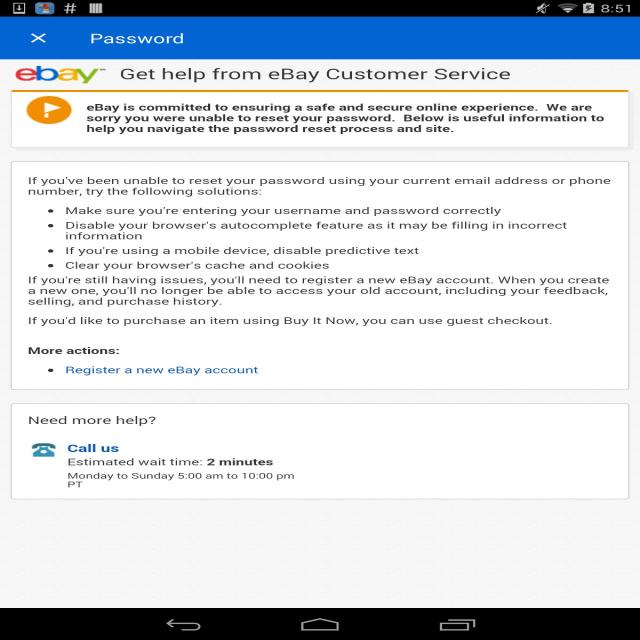button: (19, 29, 58, 48)
heading: (110, 66, 526, 86), (69, 27, 199, 52), (23, 412, 161, 429), (22, 343, 126, 358)
image: (4, 62, 110, 86), (21, 94, 74, 126), (25, 440, 60, 462)
link: (61, 365, 263, 377), (64, 440, 127, 457)
text: (22, 172, 620, 334), (83, 103, 612, 139), (61, 455, 299, 493)
